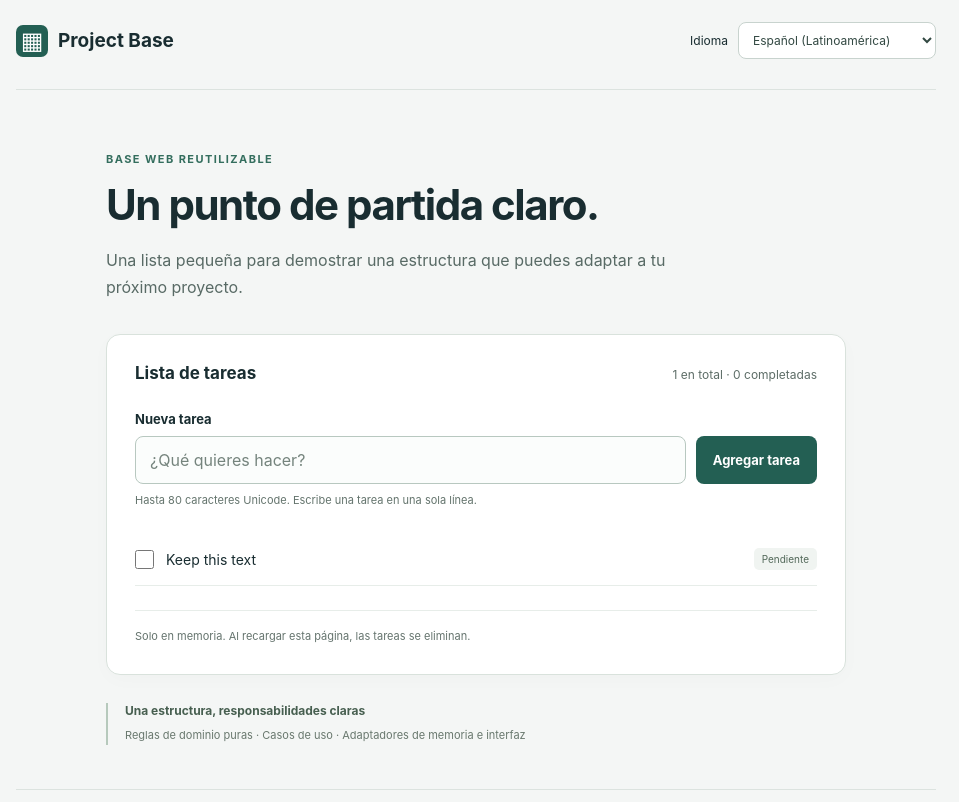
Scenario: task interface › changes language without discarding tasks and updates the page language
Expected: the checkbox is shown, [135,550,154,569]
Select "English (United States)" in the dropdown labelled "Idioma": {"x": 837, "y": 40} [738,22,936,59]
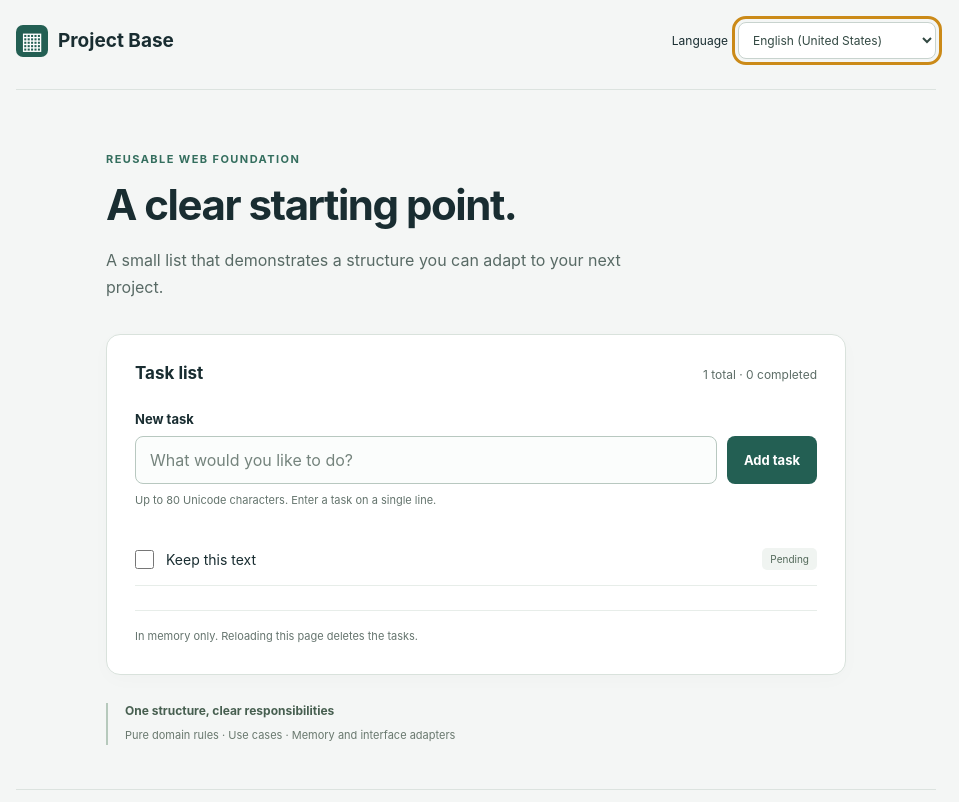
Expected: the field labelled "New task" is shown, [135,436,717,484]
Expected: the button "Add task" is shown, [727,436,817,484]
